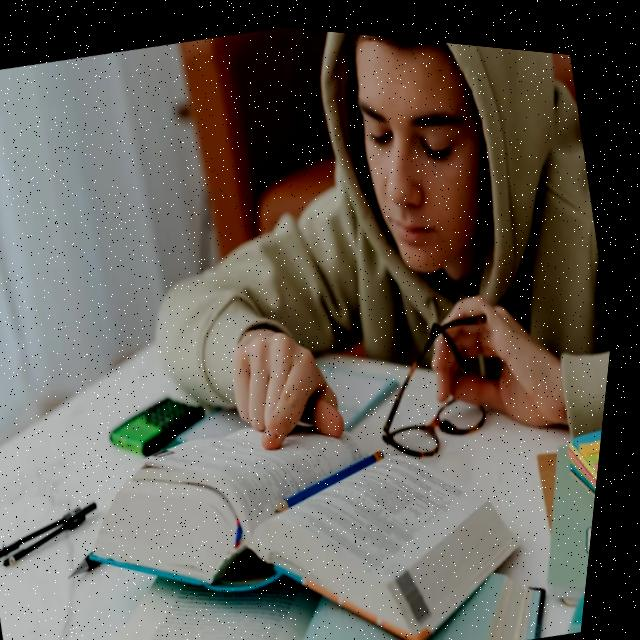studying-person: (0, 1, 640, 640)
